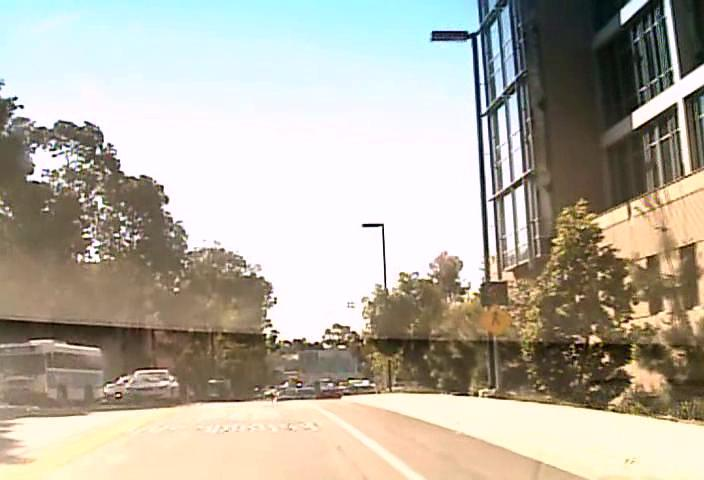pedestrianCrossing: (476, 302, 513, 338)
